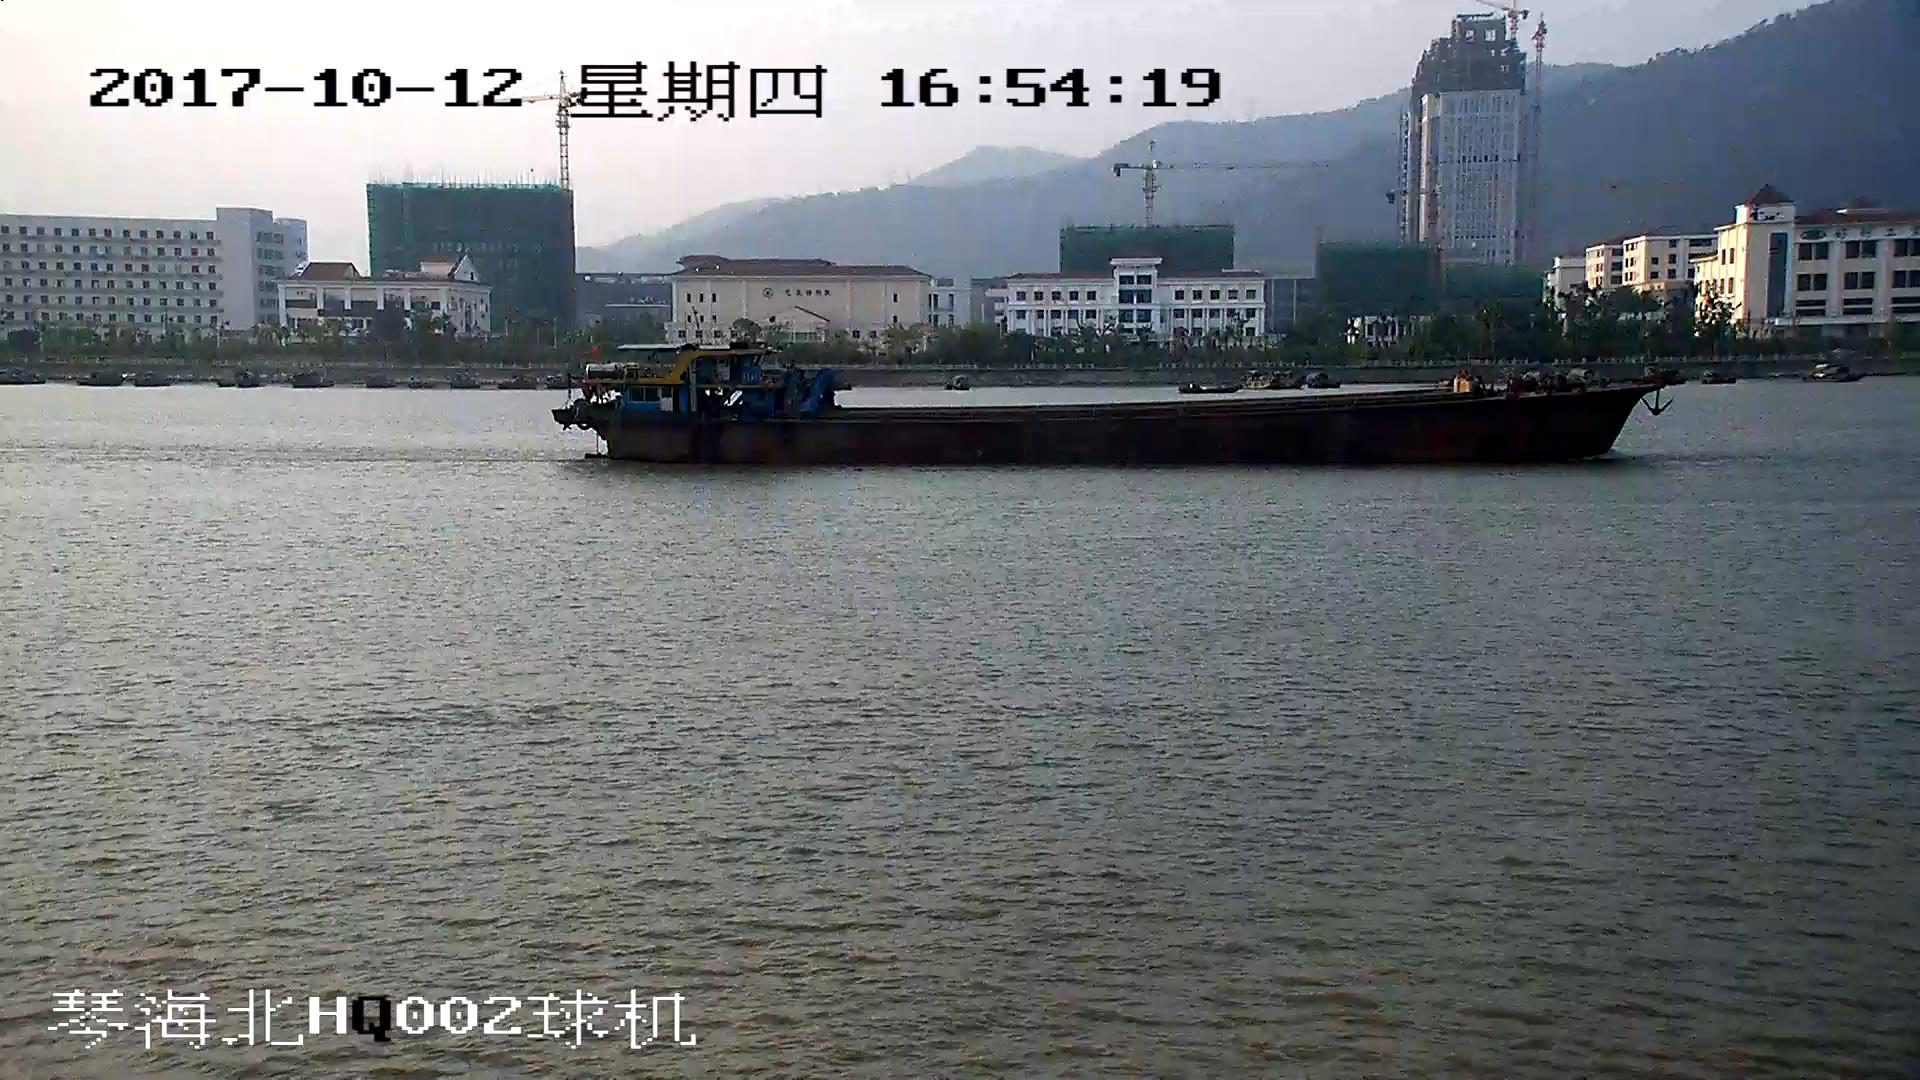bulk cargo carrier: (552, 339, 1668, 464)
